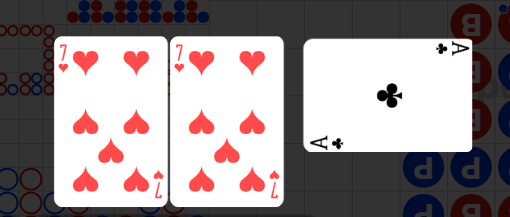7H: (268, 168, 281, 200), (151, 169, 164, 200)
AC: (432, 40, 470, 59)
